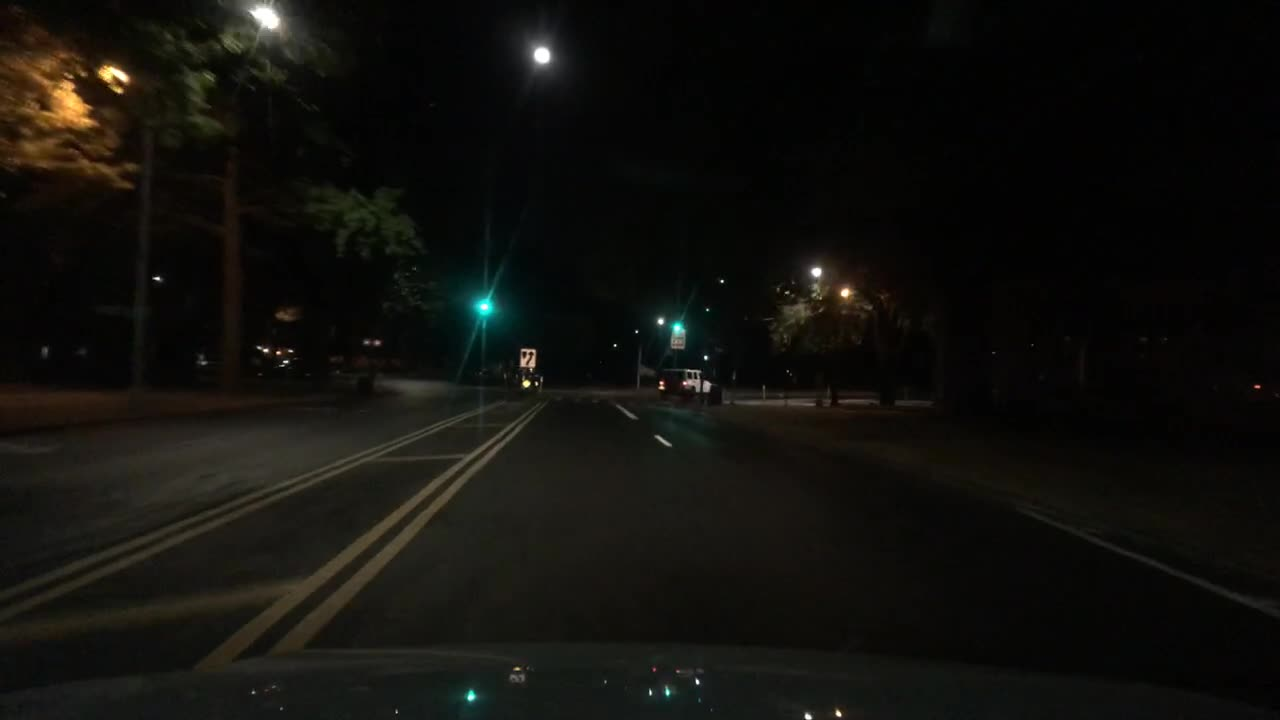car: (252, 317, 380, 402), (33, 333, 129, 383), (145, 332, 217, 385), (653, 364, 715, 399), (507, 364, 545, 394), (467, 359, 508, 386)
traffic light: (476, 298, 492, 317), (673, 317, 684, 335)
traffic sign: (519, 344, 537, 365), (669, 335, 687, 350)
